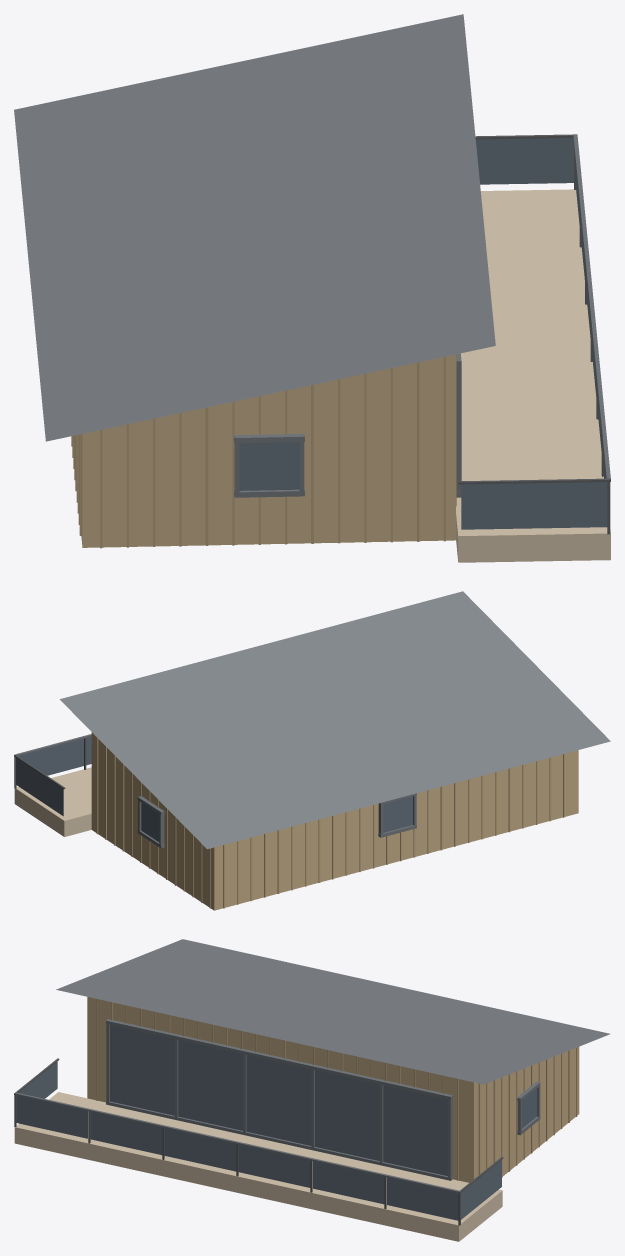
The picture shows the model from 3 angles, top to bottom: view 1: azimuth 30°, elevation 25°; view 2: azimuth 150°, elevation 25°; view 3: azimuth 270°, elevation 25°; orthographic projection. The views are drawn at different scales.
Visible parts, largest first — view 1: slate, door_wood, larch, door_wood_p, window_glass_007, window_glass_008, slate_dk, window_glass_016, pipe; view 2: slate, door_wood, door_wood_p, larch, slate_dk, window_glass_006, window_glass_008, window_glass_015, window_glass_014; view 3: slate, door_wood, larch, slate_dk, window_glass_011, window_glass_013, window_glass_009, window_glass_012, window_glass_010, door_wood_p, window_glass_003, window_glass_004 (+8 smaller).
Part boxes in pixels (box(x1,y1,x2,y2)): slate: box(14, 14, 495, 441); door_wood: box(81, 354, 455, 547); larch: box(456, 189, 610, 562); door_wood_p: box(71, 354, 456, 548); window_glass_007: box(461, 482, 607, 529); window_glass_008: box(476, 138, 573, 184); slate_dk: box(234, 134, 610, 497); window_glass_016: box(239, 442, 299, 490); pipe: box(458, 134, 610, 534); slate: box(60, 591, 610, 849); door_wood: box(91, 732, 578, 910); door_wood_p: box(96, 737, 564, 908); larch: box(14, 767, 91, 836); slate_dk: box(14, 734, 416, 848); window_glass_006: box(18, 739, 83, 775); window_glass_008: box(16, 758, 63, 816); window_glass_015: box(383, 796, 412, 832); window_glass_014: box(141, 803, 159, 841); slate: box(56, 939, 609, 1084); door_wood: box(87, 997, 579, 1182); larch: box(14, 1092, 502, 1241); slate_dk: box(14, 1019, 540, 1193); window_glass_011: box(246, 1055, 311, 1145); window_glass_013: box(383, 1085, 447, 1176); window_glass_009: box(110, 1025, 174, 1115); window_glass_012: box(315, 1070, 379, 1160); window_glass_010: box(178, 1040, 242, 1130); door_wood_p: box(96, 999, 577, 1180); window_glass_003: box(164, 1128, 236, 1171); window_glass_004: box(238, 1144, 310, 1187).
Size of the model in its own units: 14.87 by 3.94 by 16.51.
